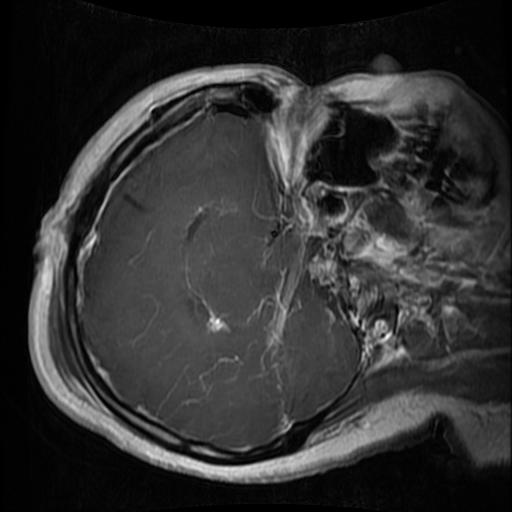glioma: (205, 300, 231, 337)
